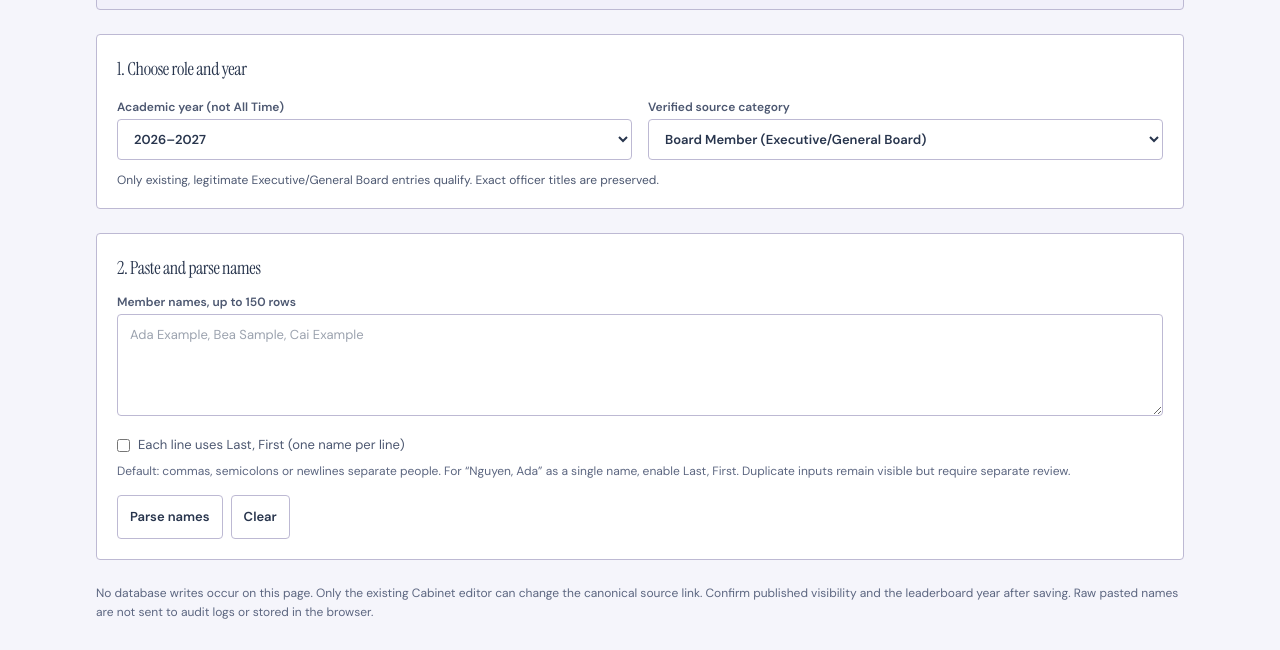
Test case: never bypasses unavailable source reads using convenience buttons
(page scrolled)
Type "Ada Example" into the text box labelled "Member names, up to 150 rows". click: (640, 365)
box: [117, 314, 1163, 416]
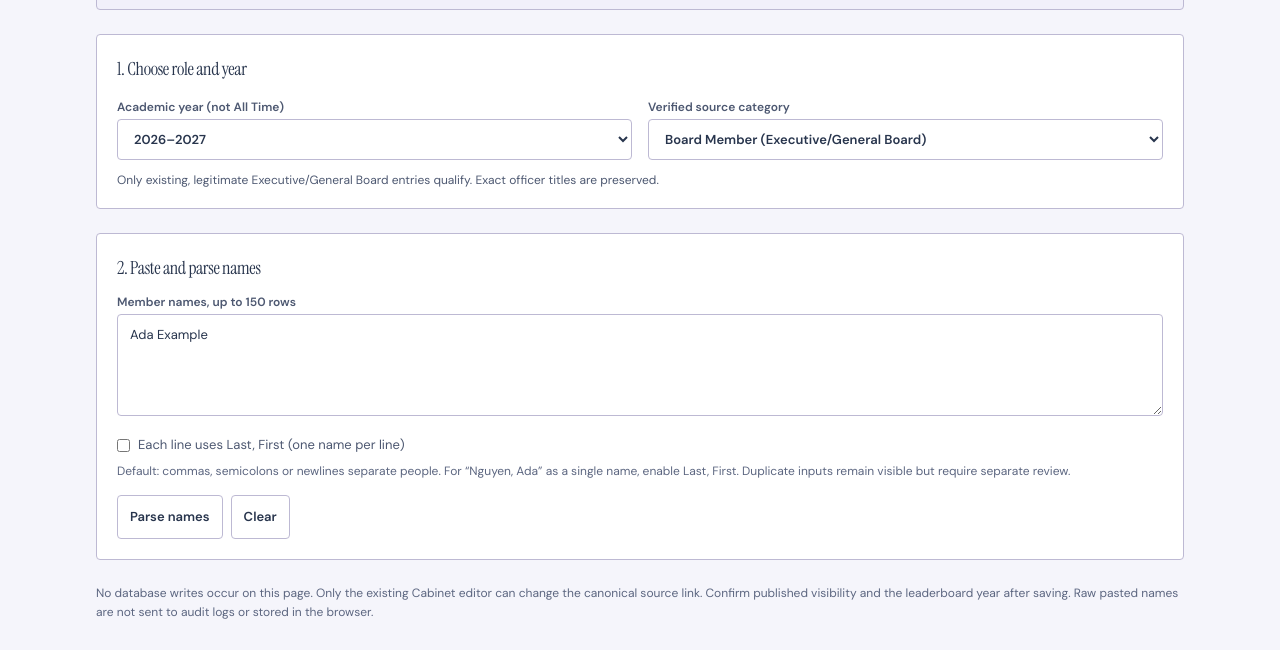
Click the button "Parse names". click: (170, 517)
box: [117, 495, 223, 539]
(page scrolled)
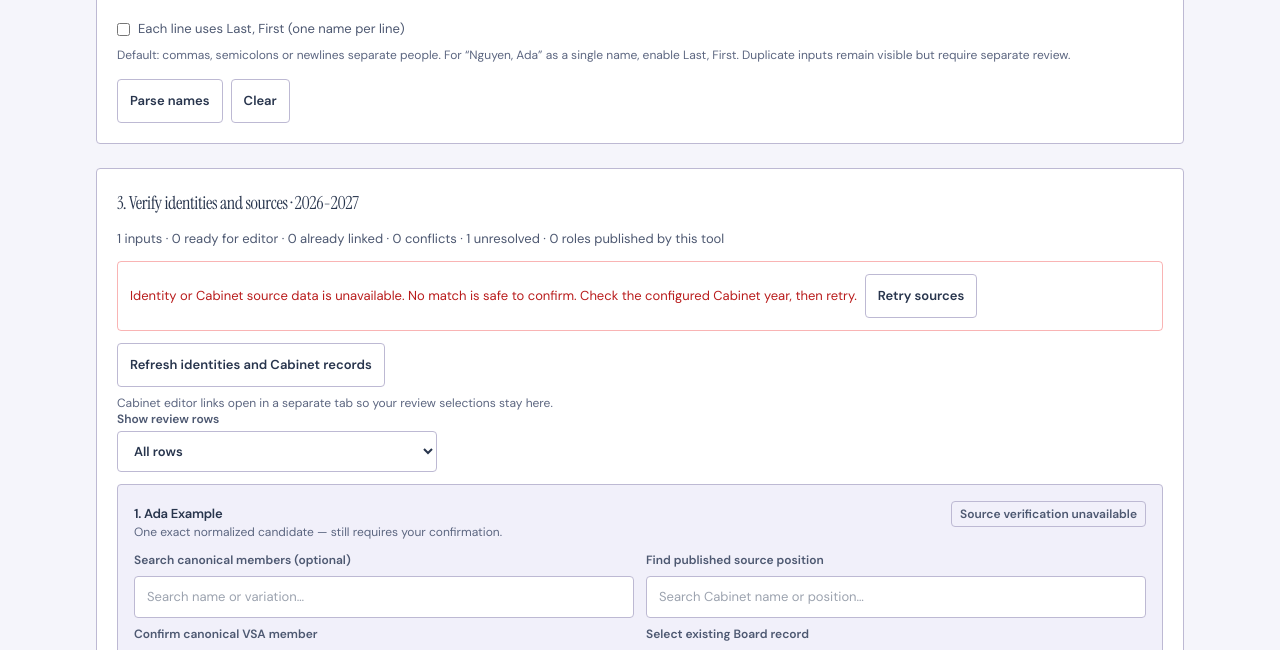
Now the 2nd message shows "Identity or Cabinet source data is unavailable", box [130, 287, 857, 304]
